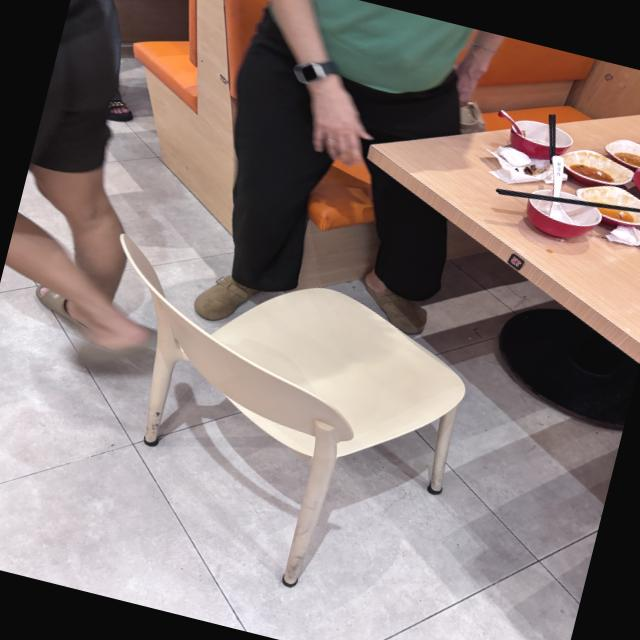Chair: (105, 224, 481, 594)
